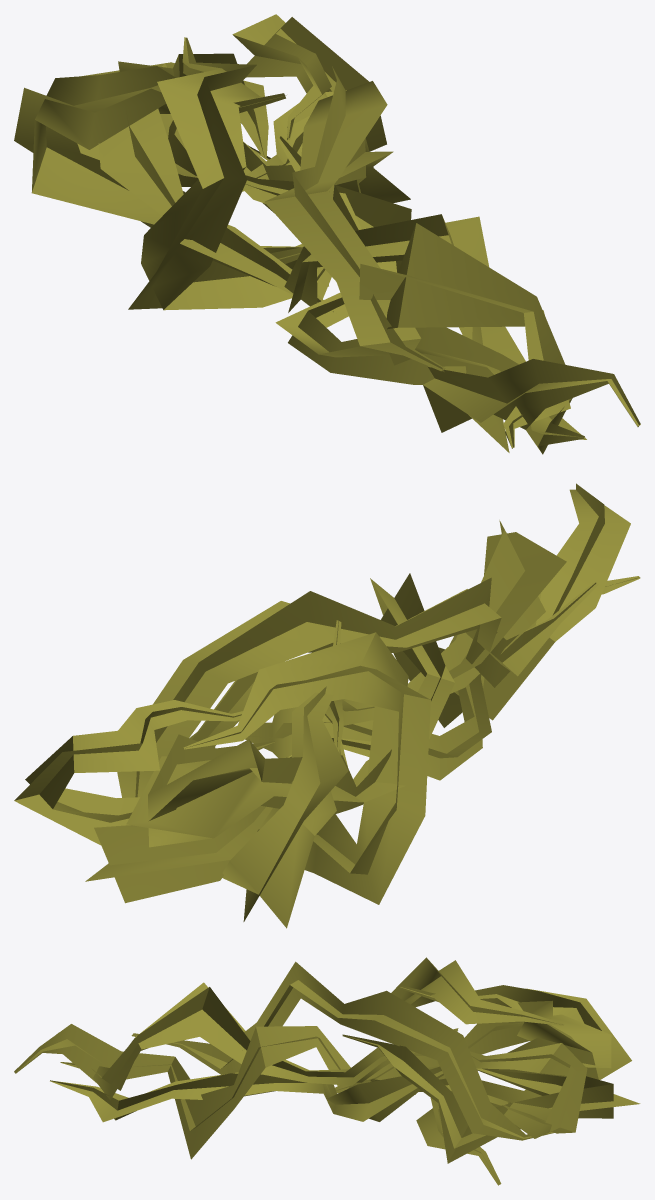
Rendered from etc_gargoyle_weapon_aura_wand_s_elec_eff.glb.
3 renders of one model, top to bottom at view 1: azimuth 30°, elevation 25°; view 2: azimuth 150°, elevation 25°; view 3: azimuth 270°, elevation 25°, orthographic. The views are drawn at different scales.
Size of the model in its own units: 0.671 by 0.531 by 1.81.
